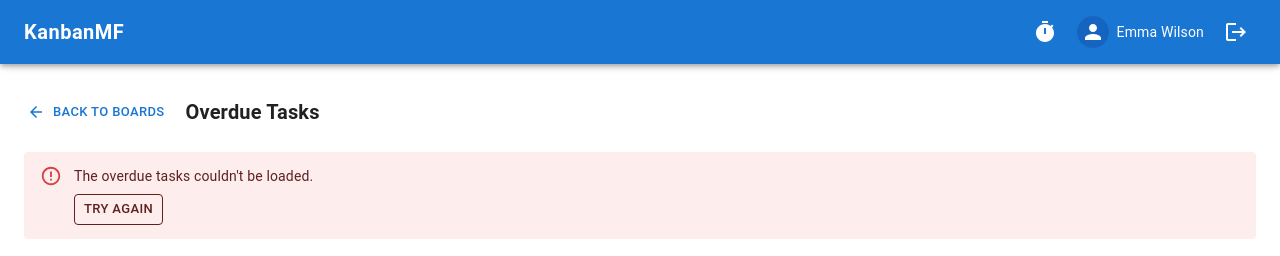
it: OverdueTasks › loads that fail › says the overdue tasks couldn't be loaded, rather than that there are none, and loads them with Try again
Expected: the message shows "The overdue tasks couldn't be loaded.", [74,168,313,184]
Click the button "Try again" at (119, 209), box [74,194,163,225]
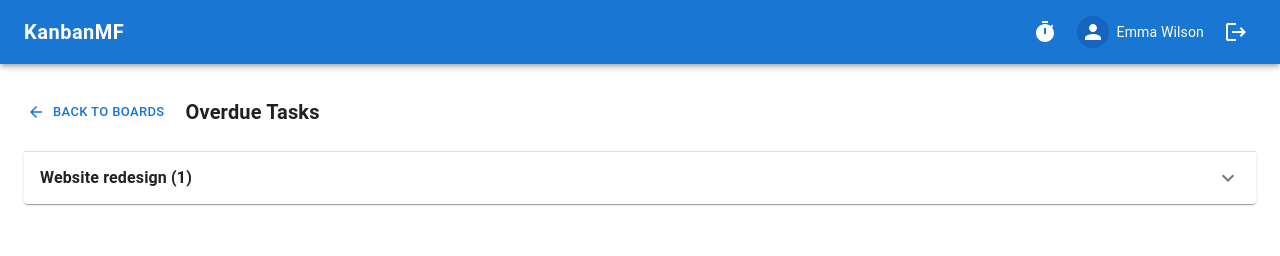
Result: the heading "Website redesign (1)" is shown at [40,164,192,192]
Result: the message "The overdue tasks couldn't be loaded. Try again" is gone
